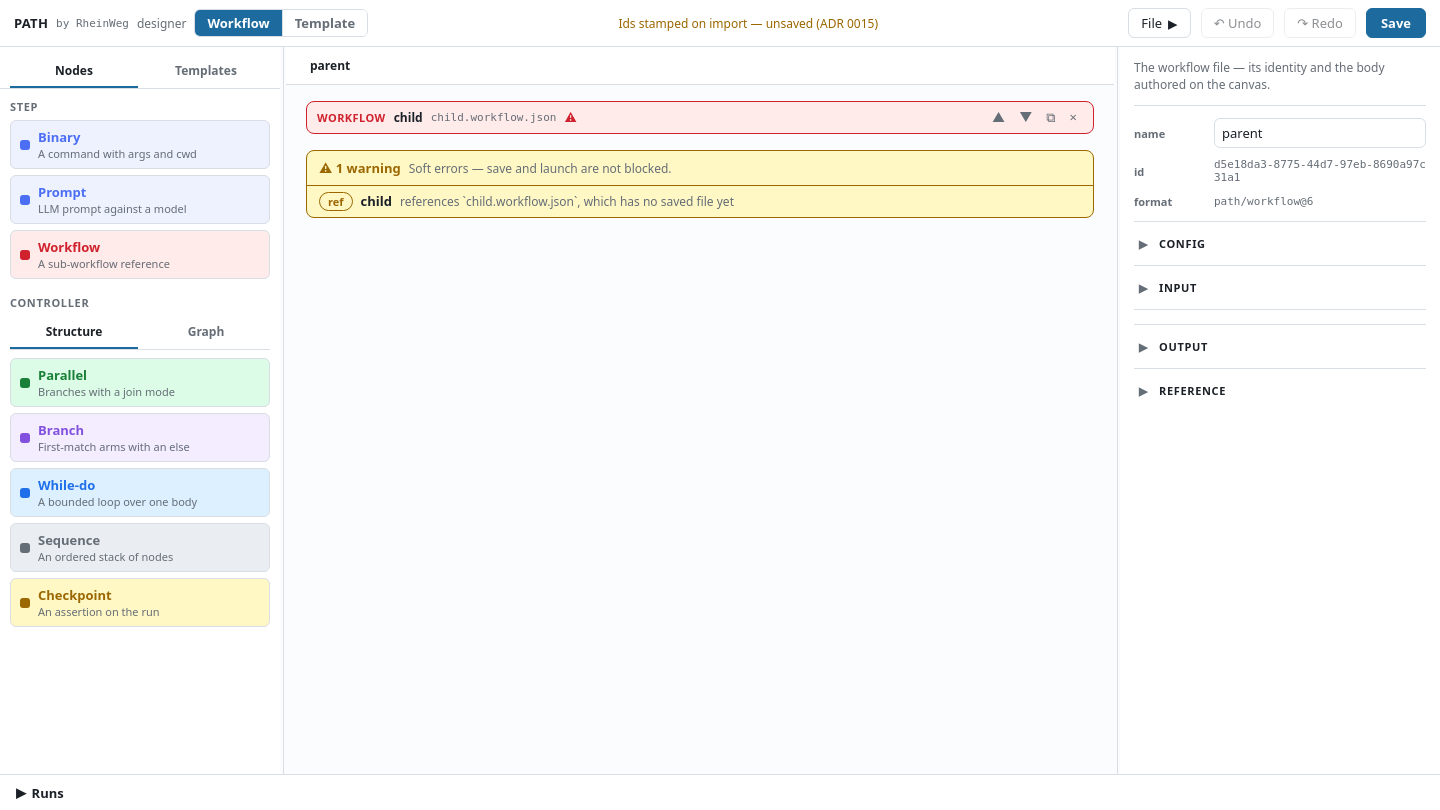
Scenario: dangling-`workflow`-ref marker + launch badge › clears the marker when the child is saved and discovery next lists it
Expected: the 1st text "child" is shown, [394, 109, 423, 126]
Expected: the element named "Problems" is shown, [306, 150, 1094, 218]
Click the button "Save": (1396, 23) [1366, 8, 1426, 38]
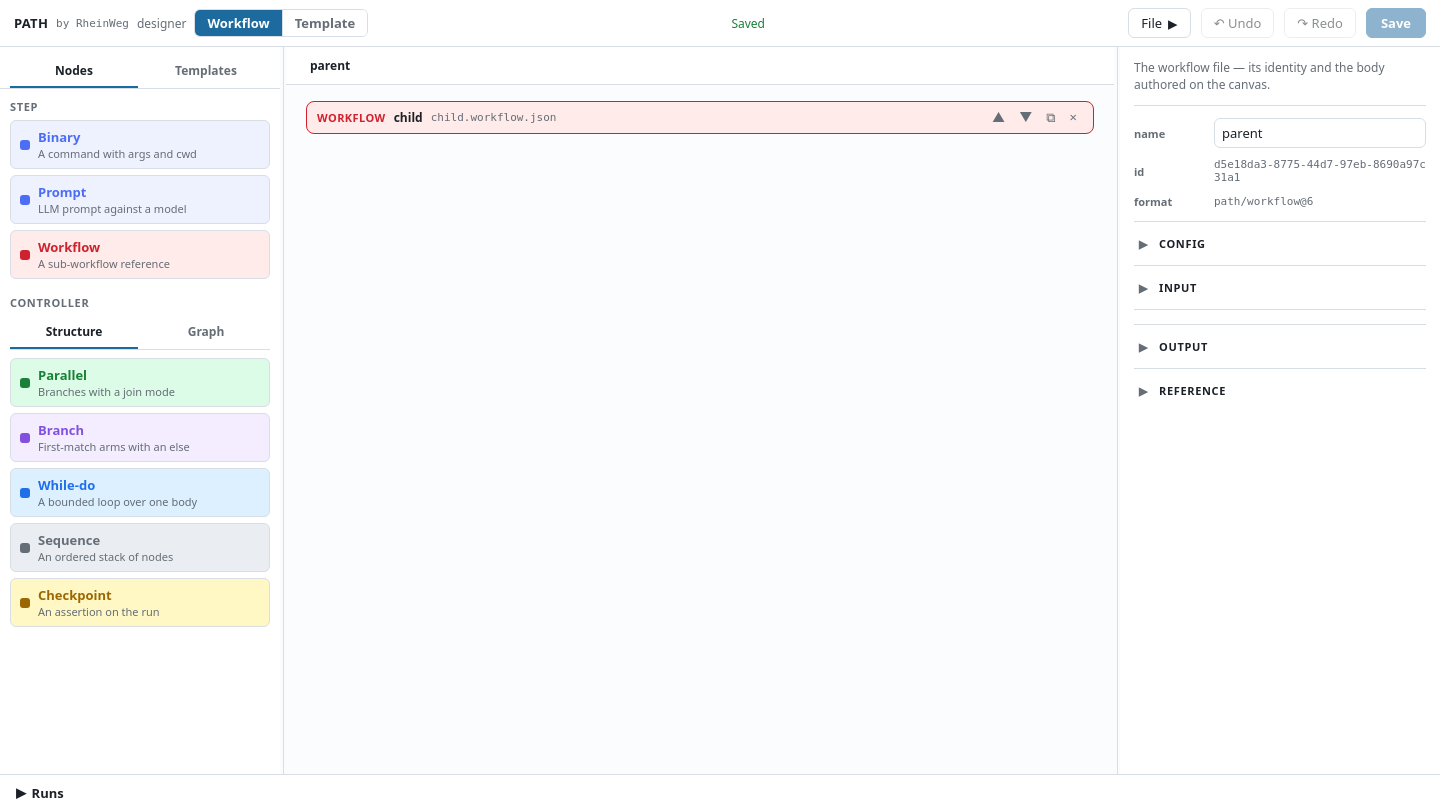
Expected: the element "Problems" is gone
